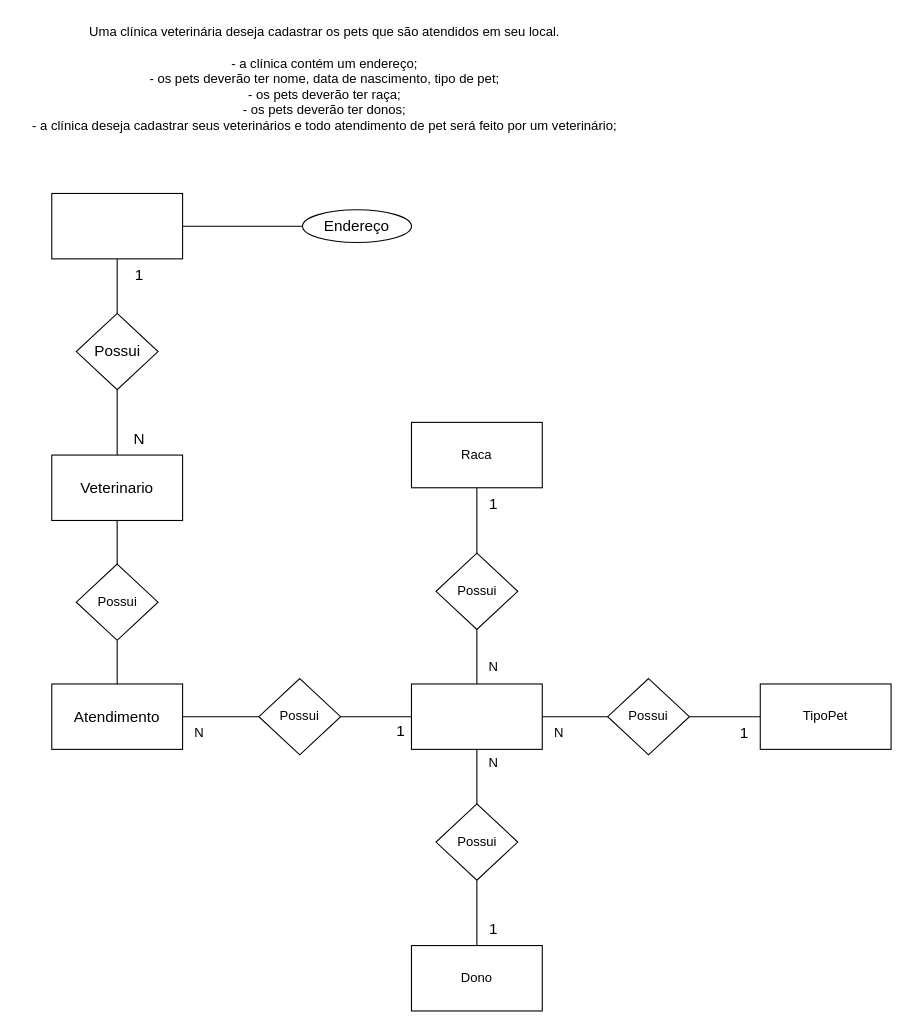
Image size: 910x1030. Some labels were removed from this diagram. Here are the shapes that lost their labels. From the top down, the box of each, then its label:
(51, 192, 183, 259): Clinica
(410, 683, 542, 749): Pet
